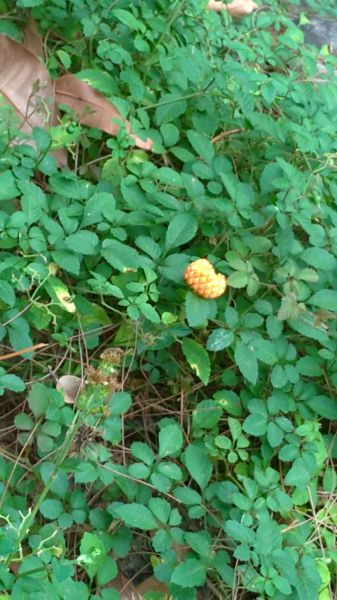eggs: (181, 254, 233, 305)
